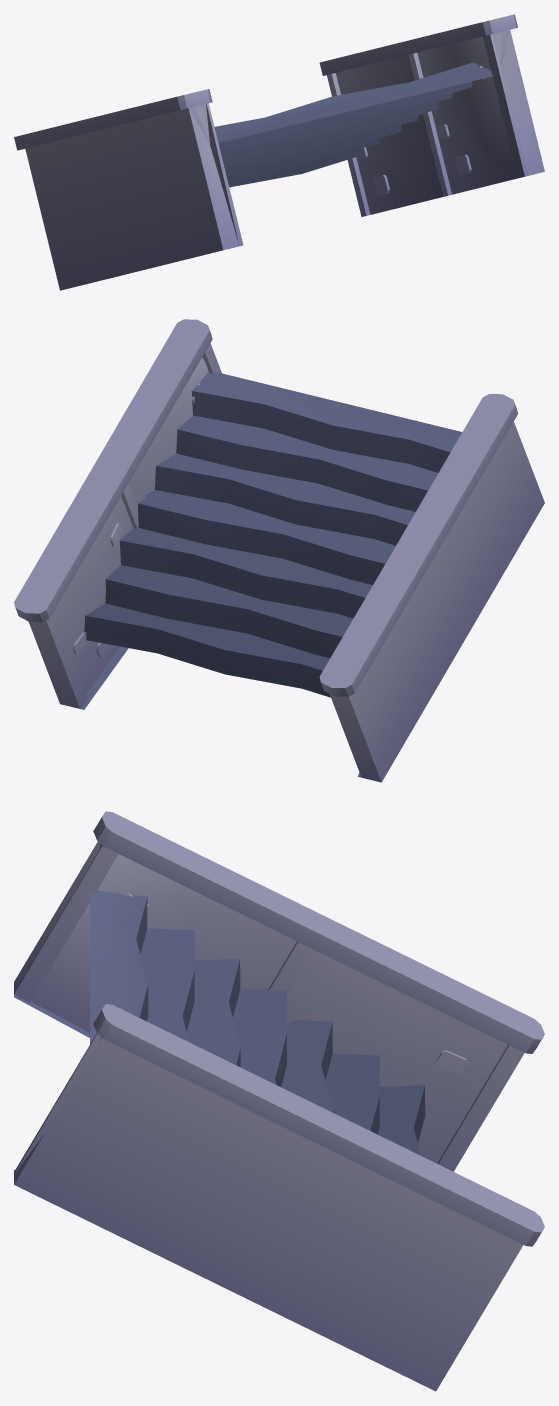
Rendered from Stairway2.fbx.
The picture shows the model from 3 angles, top to bottom: view 1: azimuth 30°, elevation 25°; view 2: azimuth 150°, elevation 25°; view 3: azimuth 270°, elevation 25°; orthographic projection. The views are drawn at different scales.
Parts seen in each view (by area): view 1: stairs-wide.003; view 2: stairs-wide.003; view 3: stairs-wide.003.
Boxes of the visible parts, box(x1,y1,x2,y2) form: stairs-wide.003: box(14, 14, 544, 290); stairs-wide.003: box(14, 319, 544, 782); stairs-wide.003: box(14, 811, 544, 1391).
Size of the model in its own units: 336 by 277 by 354.
